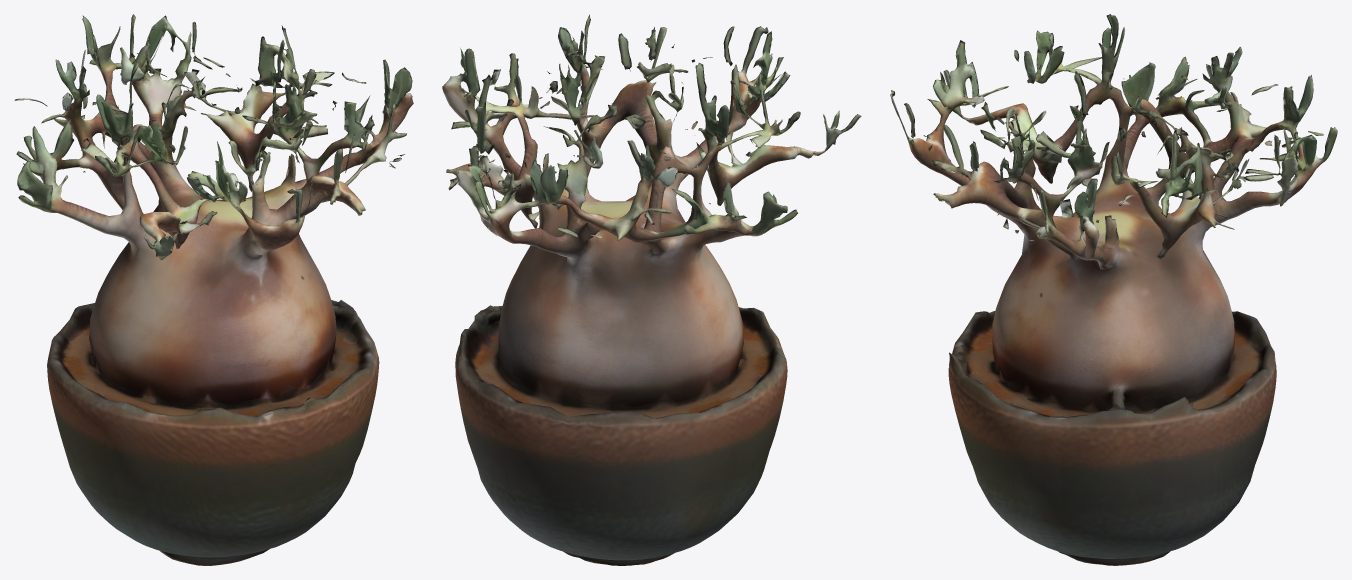
File: Pachypodium.glb
3 views of the same model, side by side, from view 1: azimuth 30°, elevation 25°; view 2: azimuth 150°, elevation 25°; view 3: azimuth 270°, elevation 25° (orthographic).
Bounding box in the file's own units: 1.57 × 2 × 1.64.
Materials: 1 (1 with a texture image).
